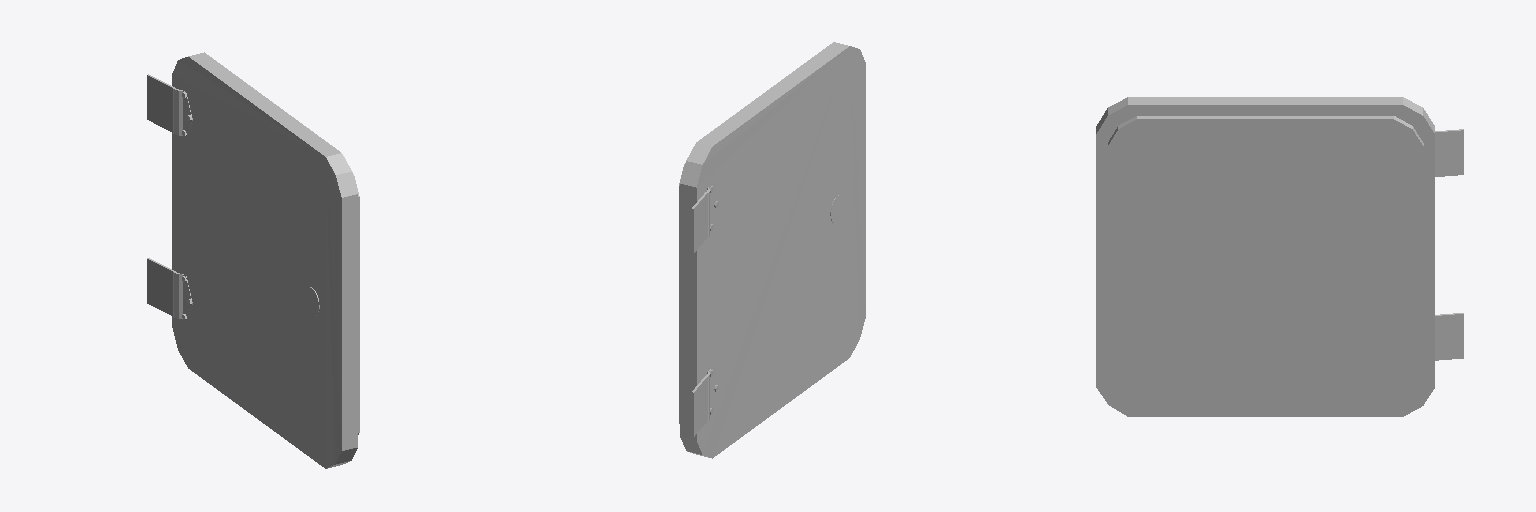
File: rightsidedoor.obj
The picture shows the model from 3 angles: view 1: azimuth 30°, elevation 25°; view 2: azimuth 150°, elevation 25°; view 3: azimuth 270°, elevation 25°; orthographic projection.
Visible parts, largest first — view 1: Side_door.007_Circle.000; view 2: Side_door.007_Circle.000; view 3: Side_door.007_Circle.000.
Boxes of the visible parts, x1=… form: Side_door.007_Circle.000: x1=147, y1=52, x2=359, y2=468; Side_door.007_Circle.000: x1=679, y1=42, x2=865, y2=458; Side_door.007_Circle.000: x1=1096, y1=97, x2=1463, y2=416.
Size of the model in its own units: 0.0828 by 0.7007 by 0.7477.